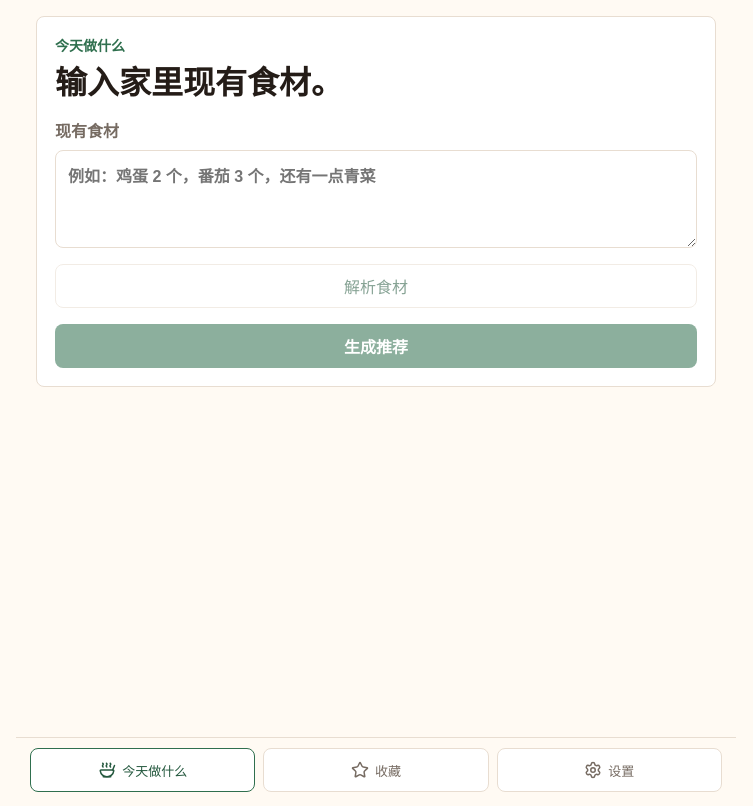
Test case: HomePage › lets saved users return home from settings
This screenshot has width=753, height=806.
Expected: the text box labelled "现有食材" is shown, [55, 150, 697, 248]
Click the button "设置" at (609, 770), box [497, 748, 722, 792]
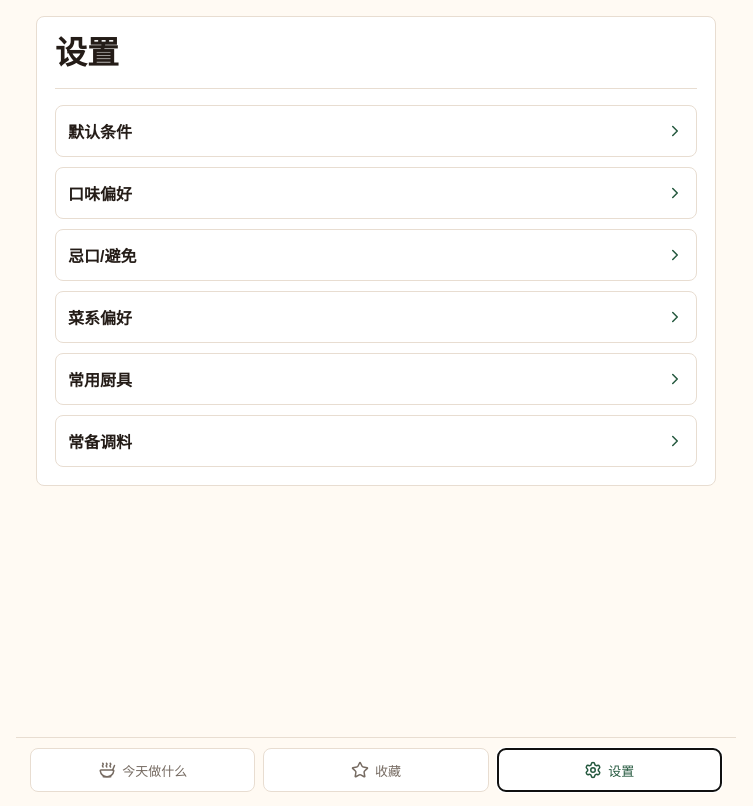
Result: the heading "设置" is shown at [55, 35, 119, 71]
Click the button "今天做什么" at (143, 770), box [30, 748, 255, 792]
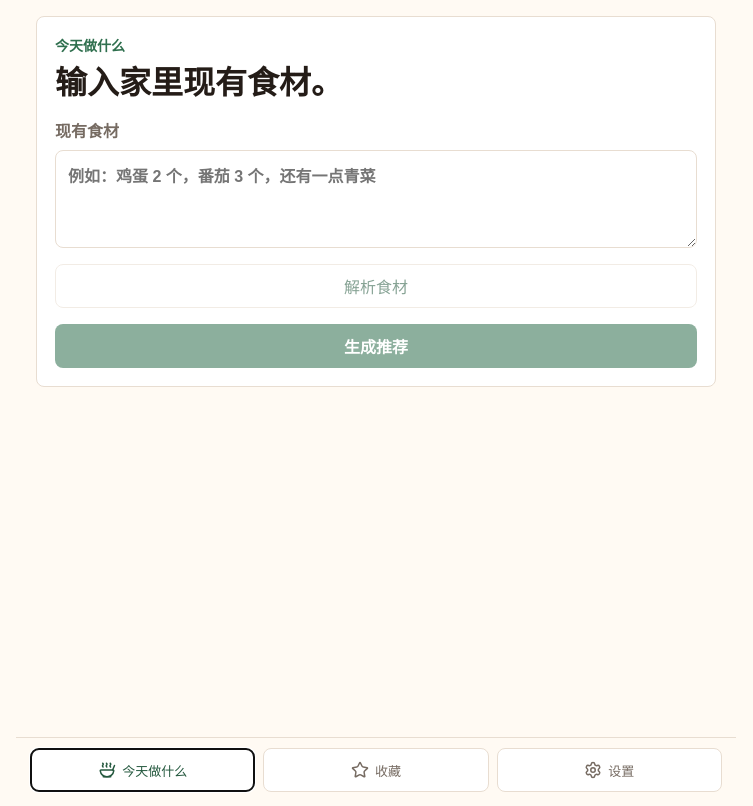
Result: the text box labelled "现有食材" is shown at [55, 150, 697, 248]
